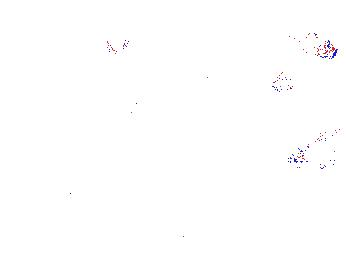X-ray fish: (293, 26, 340, 61), (269, 64, 308, 93), (314, 139, 340, 170)
glassfish: (106, 93, 226, 159), (285, 127, 345, 165)
redtail glassfish: (103, 33, 131, 53)
